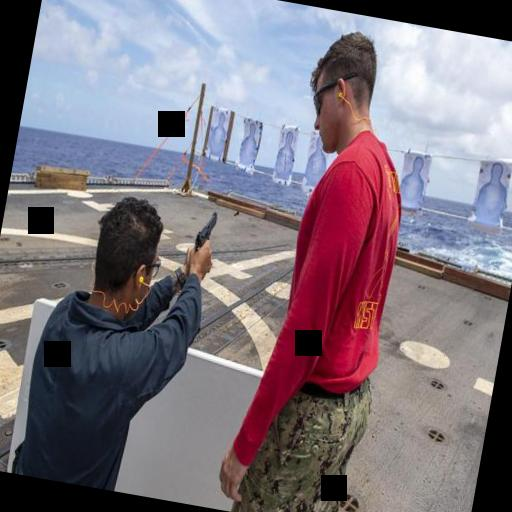Handgun: (192, 206, 218, 253)
